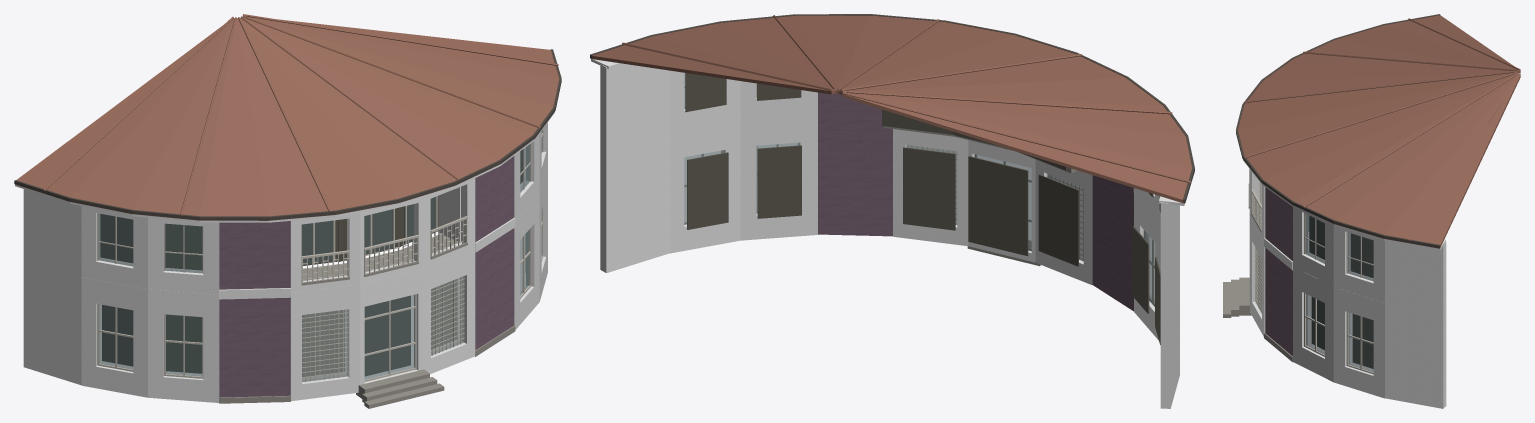
Rendered from changning-xinhua-329-no36-cake-villa-lod.glb.
The picture shows the model from 3 angles, left to right: view 1: azimuth 30°, elevation 25°; view 2: azimuth 150°, elevation 25°; view 3: azimuth 270°, elevation 25°; orthographic projection. The views are drawn at different scales.
Visible parts, largest first — view 1: 新华路329弄36号双层圆形住宅庭院立面; view 2: 新华路329弄36号双层圆形住宅庭院立面; view 3: 新华路329弄36号双层圆形住宅庭院立面.
Part boxes in pixels (x1,y1,x2,y2): 新华路329弄36号双层圆形住宅庭院立面: [14, 14, 561, 408]; 新华路329弄36号双层圆形住宅庭院立面: [590, 14, 1194, 408]; 新华路329弄36号双层圆形住宅庭院立面: [1223, 14, 1520, 408].
Bounding box in the file's own units: 19 × 8.8 × 10.31.
9 materials, 2 textured.
